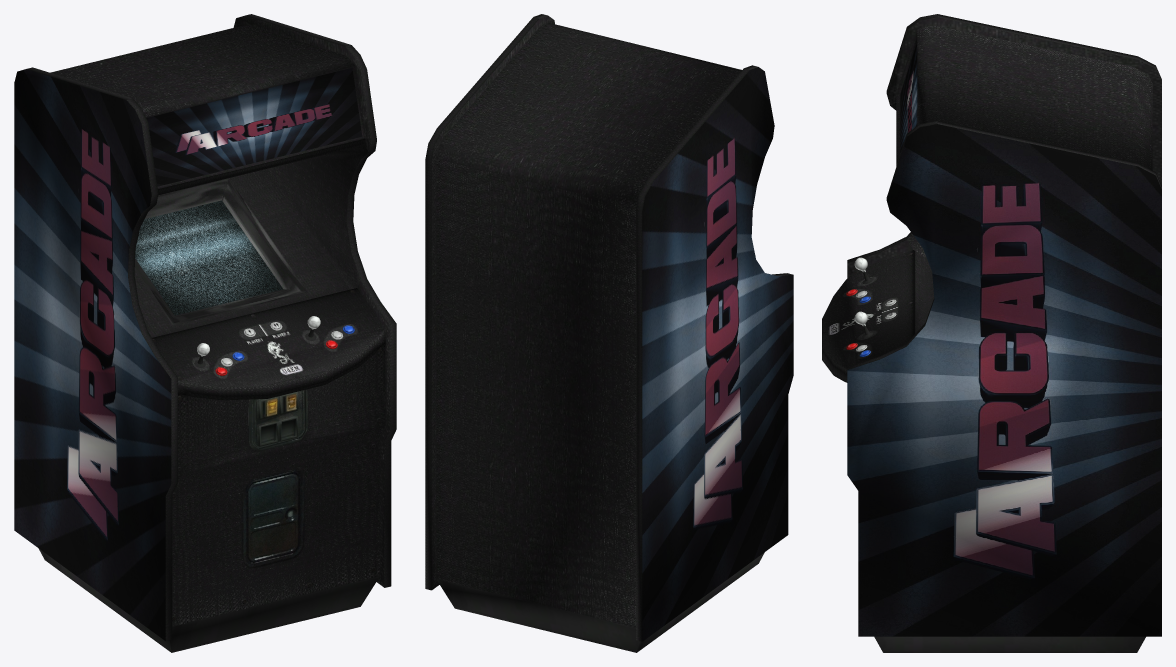
File: Arcade.fbx
3 views of the same model, side by side, from view 1: azimuth 30°, elevation 25°; view 2: azimuth 150°, elevation 25°; view 3: azimuth 270°, elevation 25° (orthographic). The views are drawn at different scales.
Parts seen in each view (by area): view 1: two_player_arcade; view 2: two_player_arcade; view 3: two_player_arcade.
Part boxes in pixels (x1,y1,x2,y2): two_player_arcade: [14, 14, 396, 652]; two_player_arcade: [425, 14, 793, 652]; two_player_arcade: [822, 14, 1161, 652].
Size of the model in its own units: 3400 by 7746 by 4437.
Materials: 4 (4 with a texture image).
